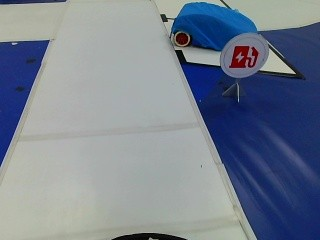battery: (220, 36, 267, 76)
car: (170, 0, 261, 51)
